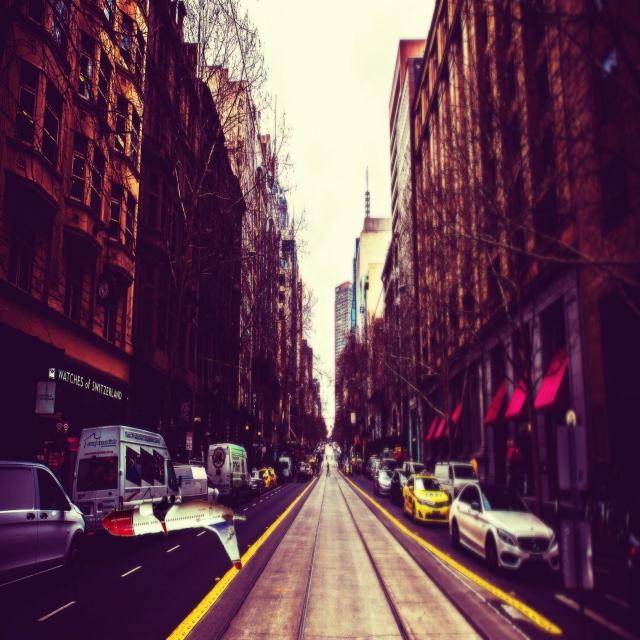airplane: (101, 494, 246, 572)
